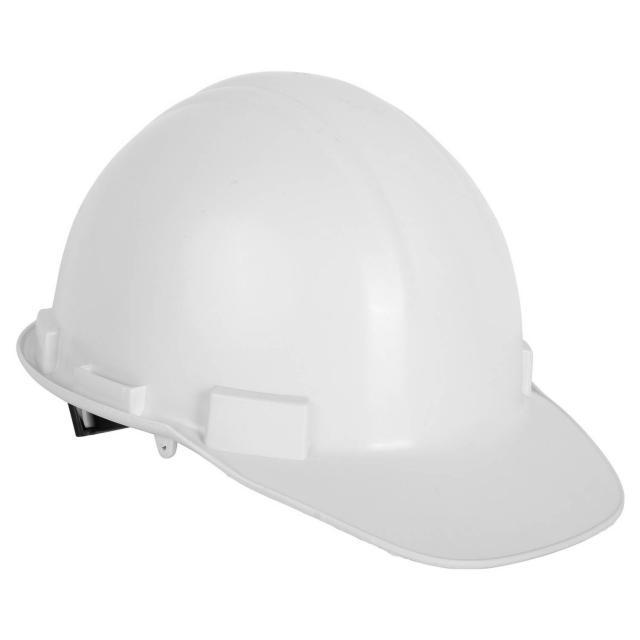safety_helmet: (16, 72, 626, 573)
